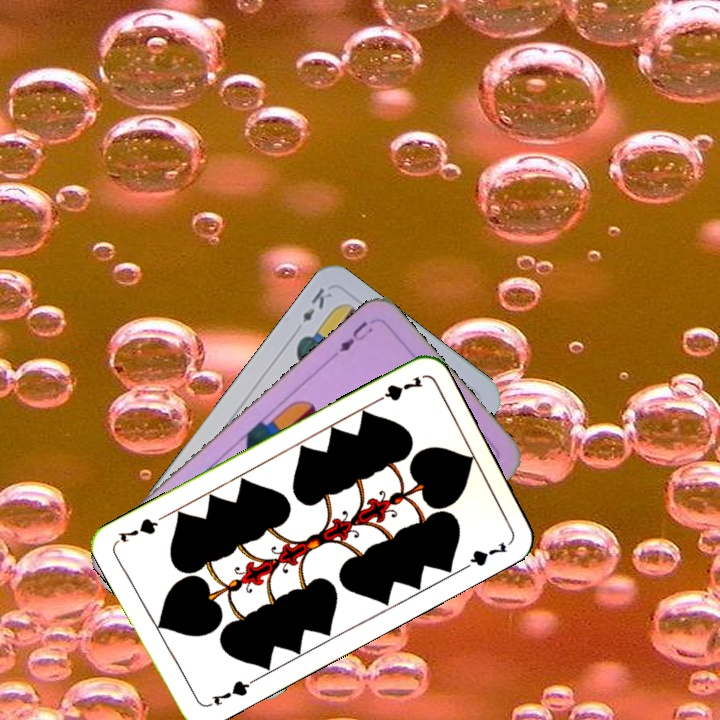EK: (298, 283, 335, 325)
EU: (334, 317, 376, 356)
G7: (368, 372, 425, 407), (202, 675, 257, 710)
